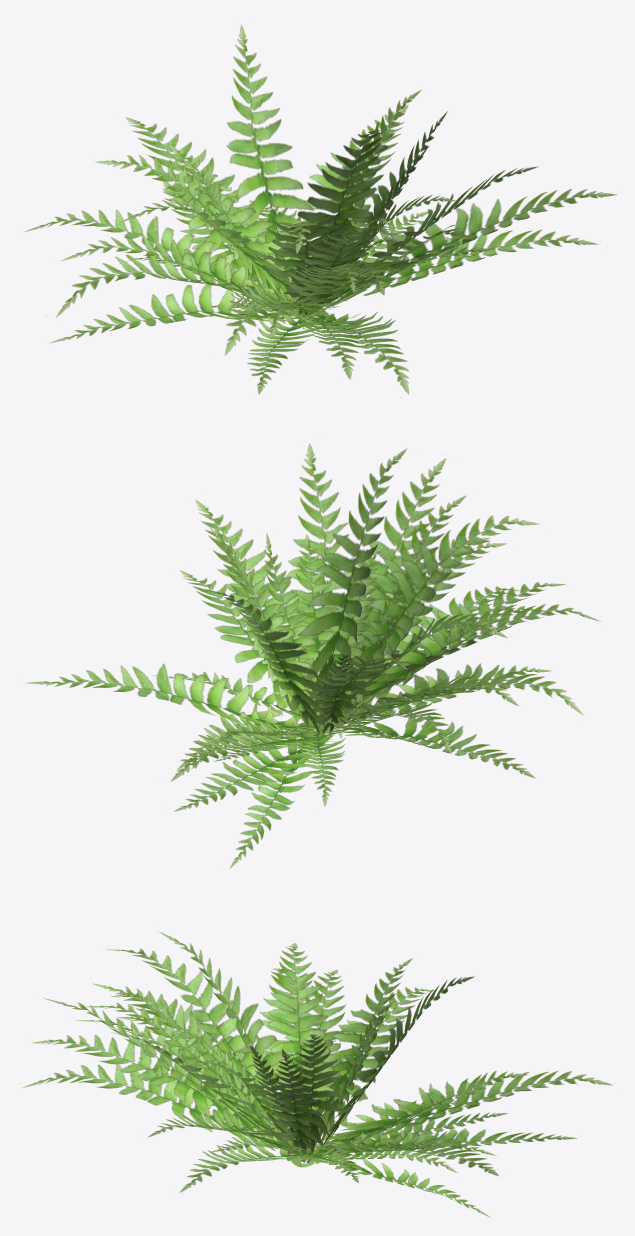
Rendered from Fern_Jungle_01.glb.
3 views of the same model, one above another, from view 1: azimuth 30°, elevation 25°; view 2: azimuth 150°, elevation 25°; view 3: azimuth 270°, elevation 25° (orthographic). The views are drawn at different scales.
Parts seen in each view (by area): view 1: Pakis_01_B - copy.001; view 2: Pakis_01_B - copy.001; view 3: Pakis_01_B - copy.001.
Boxes of the visible parts, bbox=[...] form: Pakis_01_B - copy.001: bbox=[24, 24, 619, 394]; Pakis_01_B - copy.001: bbox=[27, 443, 600, 868]; Pakis_01_B - copy.001: bbox=[23, 932, 613, 1217].
Size of the model in its own units: 1.94 by 1.17 by 2.15.
1 material, 1 textured.
